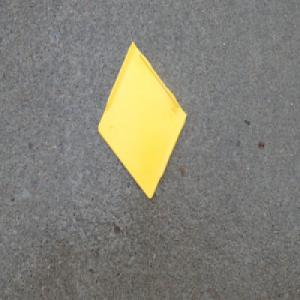PlasticPart: (97, 40, 188, 202)
